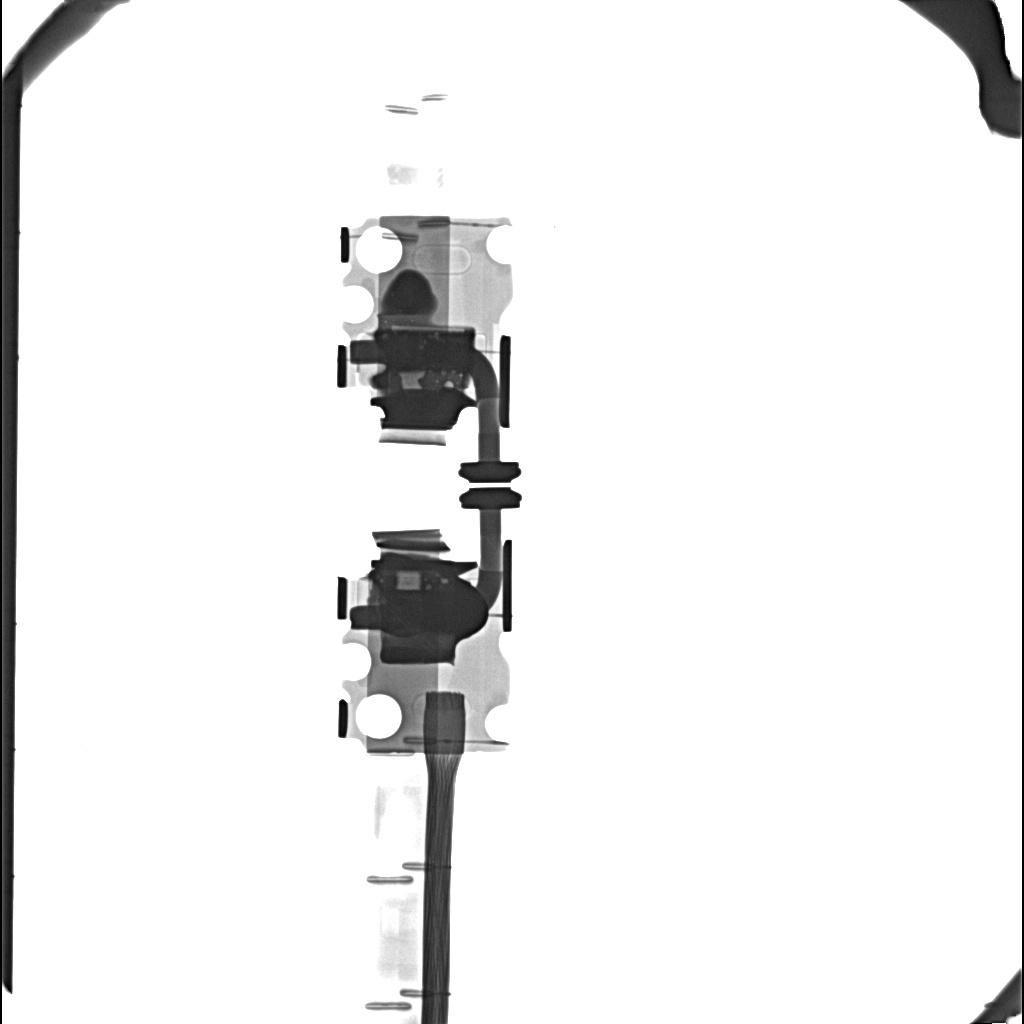defect: (381, 588, 488, 633), (375, 330, 474, 371), (396, 570, 421, 590), (399, 372, 426, 389), (389, 324, 466, 329), (444, 380, 454, 388)
